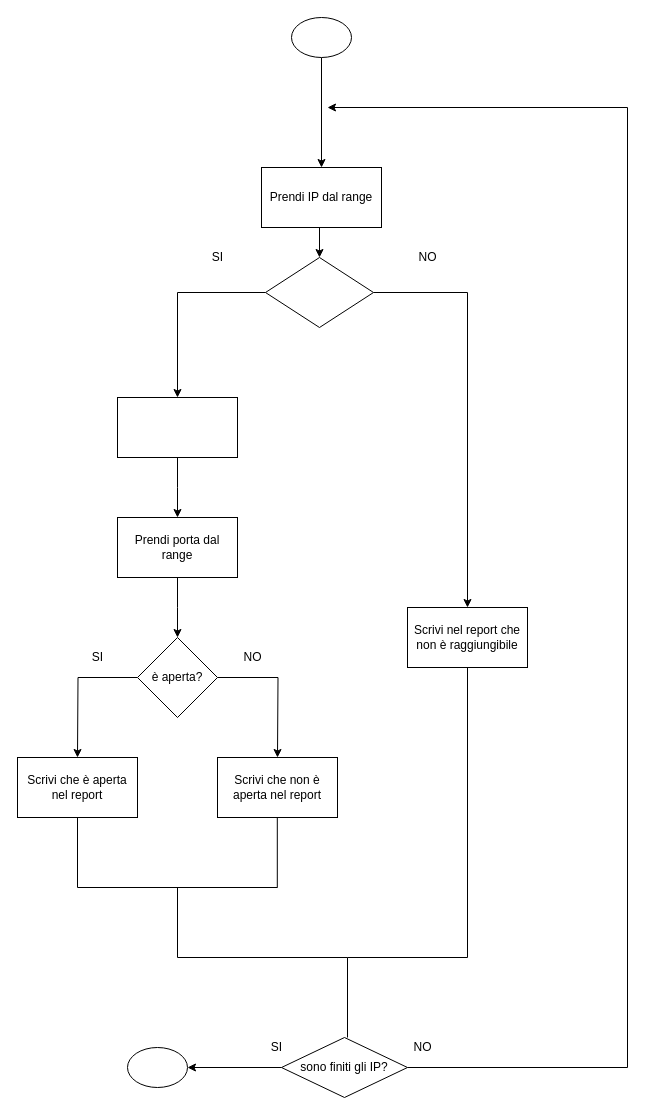
Some shapes in this 653 by 1115 pixel diagram are drawn without their labels. The shapes that lost their labels are listed below. From the top down, each one's centre as x and y in pixels, then its label:
At point 321,37: "Inizio".
At point 319,292: "è raggiungibile?".
At point 177,427: "Scrivi nel report che è raggiungibile".
At point 157,1067: "Fine".
